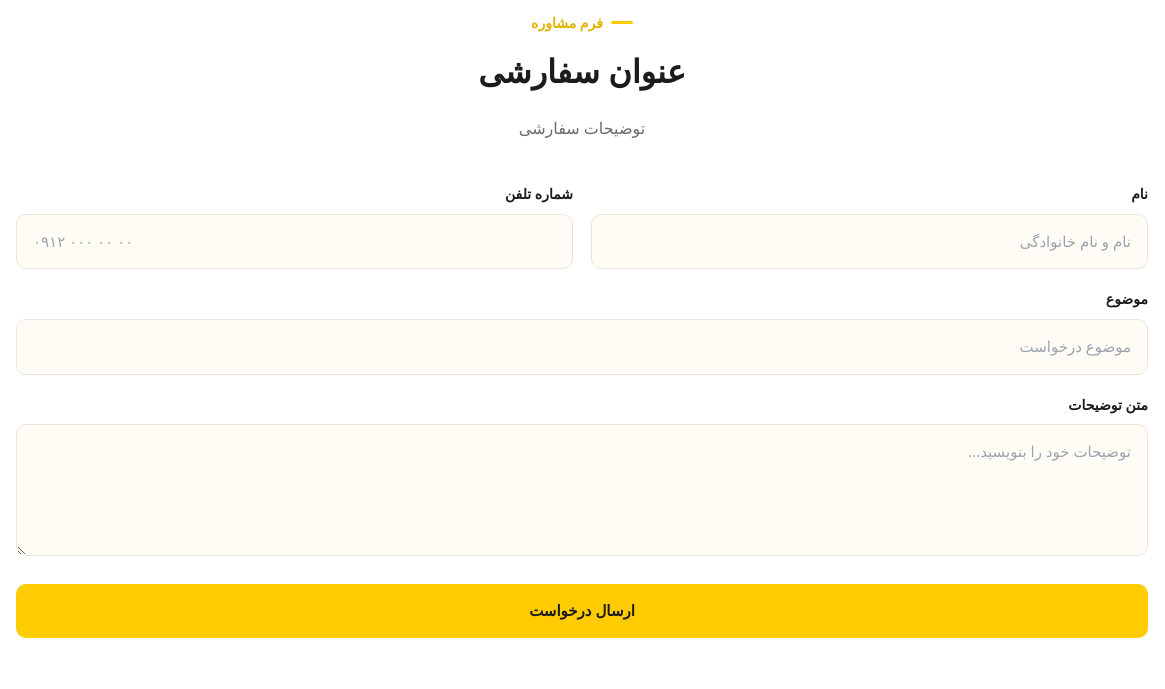
Test: ConsultationForm › should show error message on submission failure
Type "علی" into the field labelled "نام" at [870, 242], box top-left (591, 214), bottom-right (1148, 269)
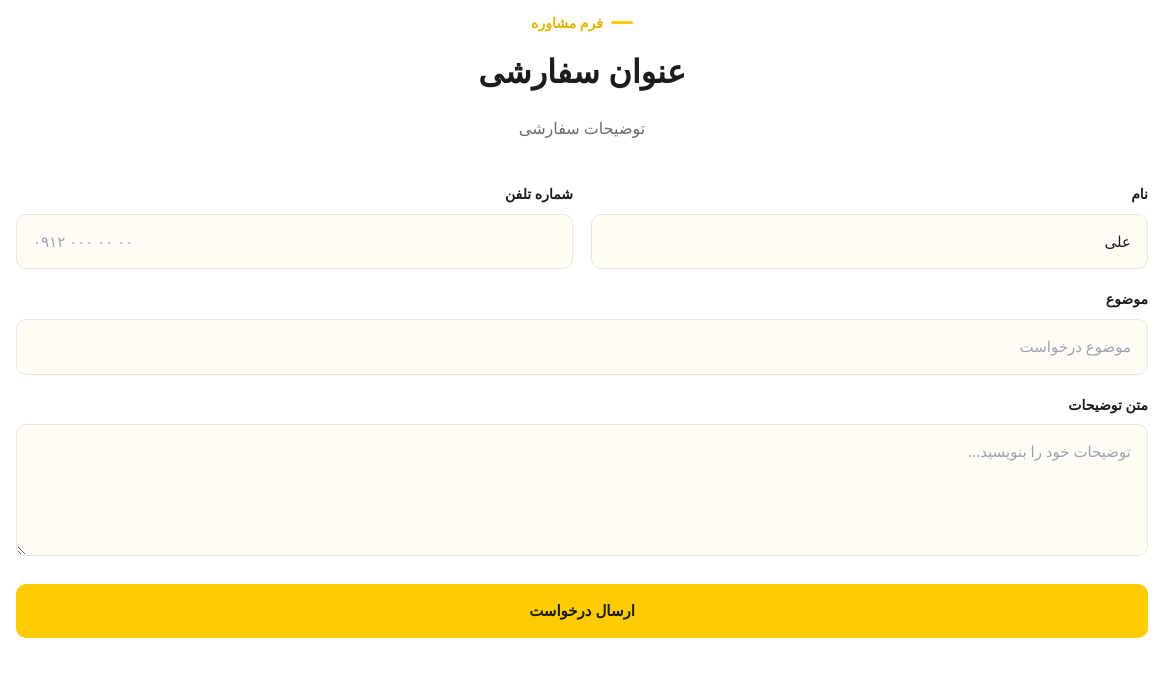
Type "09121234567" into the field labelled "شماره تلفن" at [294, 242], box top-left (16, 214), bottom-right (573, 269)
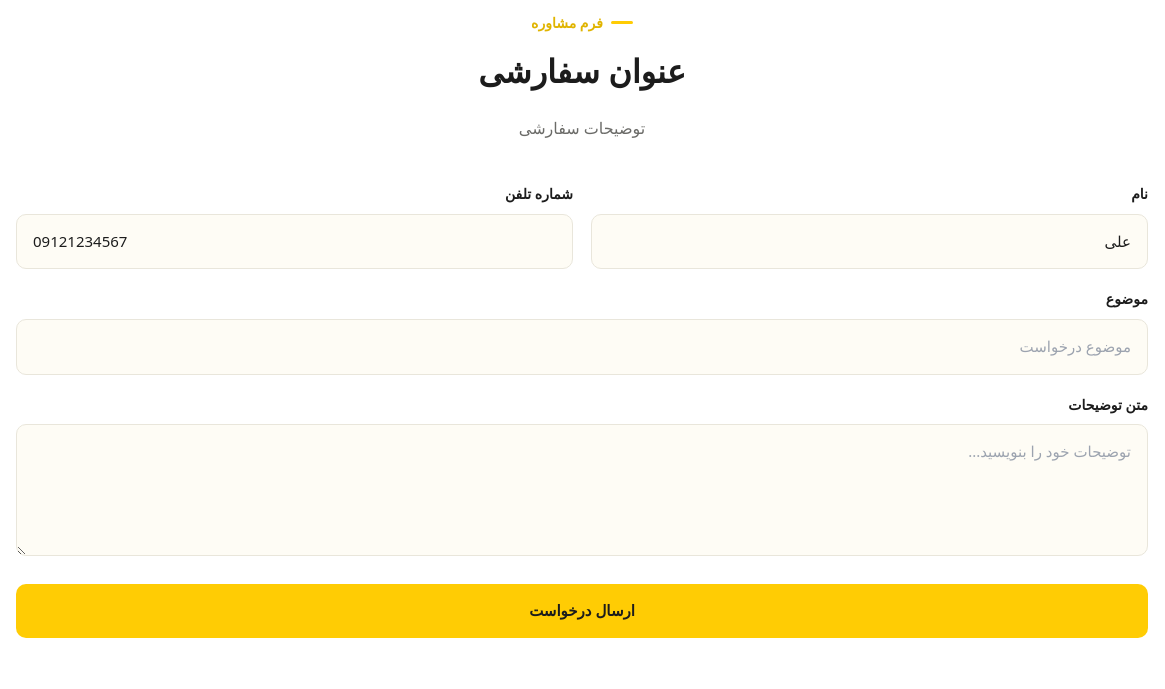
Click the button "ارسال درخواست" at [582, 611], box top-left (16, 584), bottom-right (1148, 638)
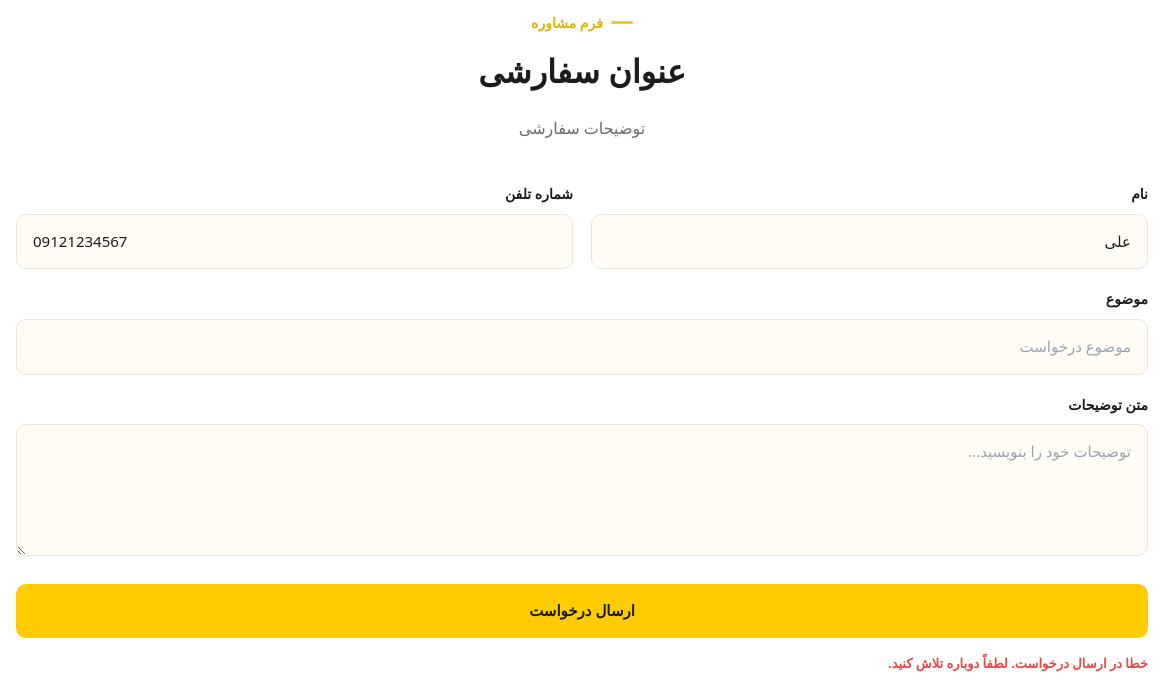
Expected: the text "خطا در ارسال درخواست. لطفاً دوباره تلاش کنید." is shown, top-left (888, 654), bottom-right (1148, 672)
